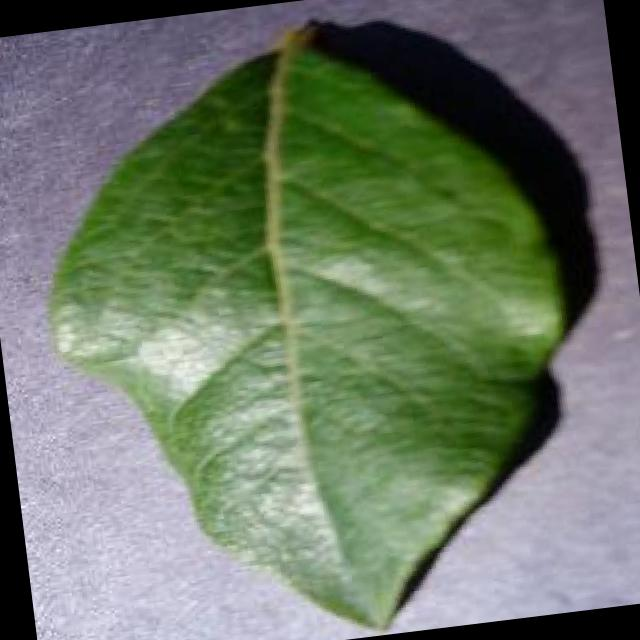healthy: (53, 33, 563, 627)
